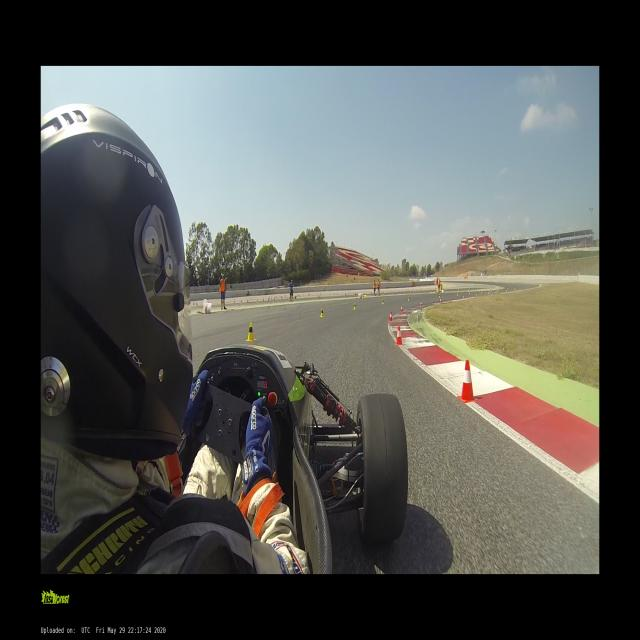orange_cone: (458, 360, 477, 404), (395, 326, 403, 346), (388, 312, 392, 322), (399, 305, 403, 313), (420, 301, 422, 307), (440, 298, 441, 303), (463, 295, 464, 299), (476, 294, 477, 297), (488, 292, 489, 295), (506, 290, 507, 293), (496, 291, 496, 294), (514, 289, 514, 291)
yellow_cone: (246, 322, 256, 341), (319, 308, 324, 318), (353, 302, 356, 310), (382, 299, 384, 304), (408, 296, 410, 300), (404, 290, 406, 294), (240, 300, 242, 304), (273, 298, 275, 302), (439, 294, 440, 298), (457, 292, 458, 296), (481, 290, 482, 294), (257, 299, 258, 303), (413, 290, 414, 293), (289, 297, 290, 300), (292, 297, 293, 300), (469, 292, 470, 294), (383, 292, 384, 294), (410, 290, 410, 294), (392, 292, 392, 294)
